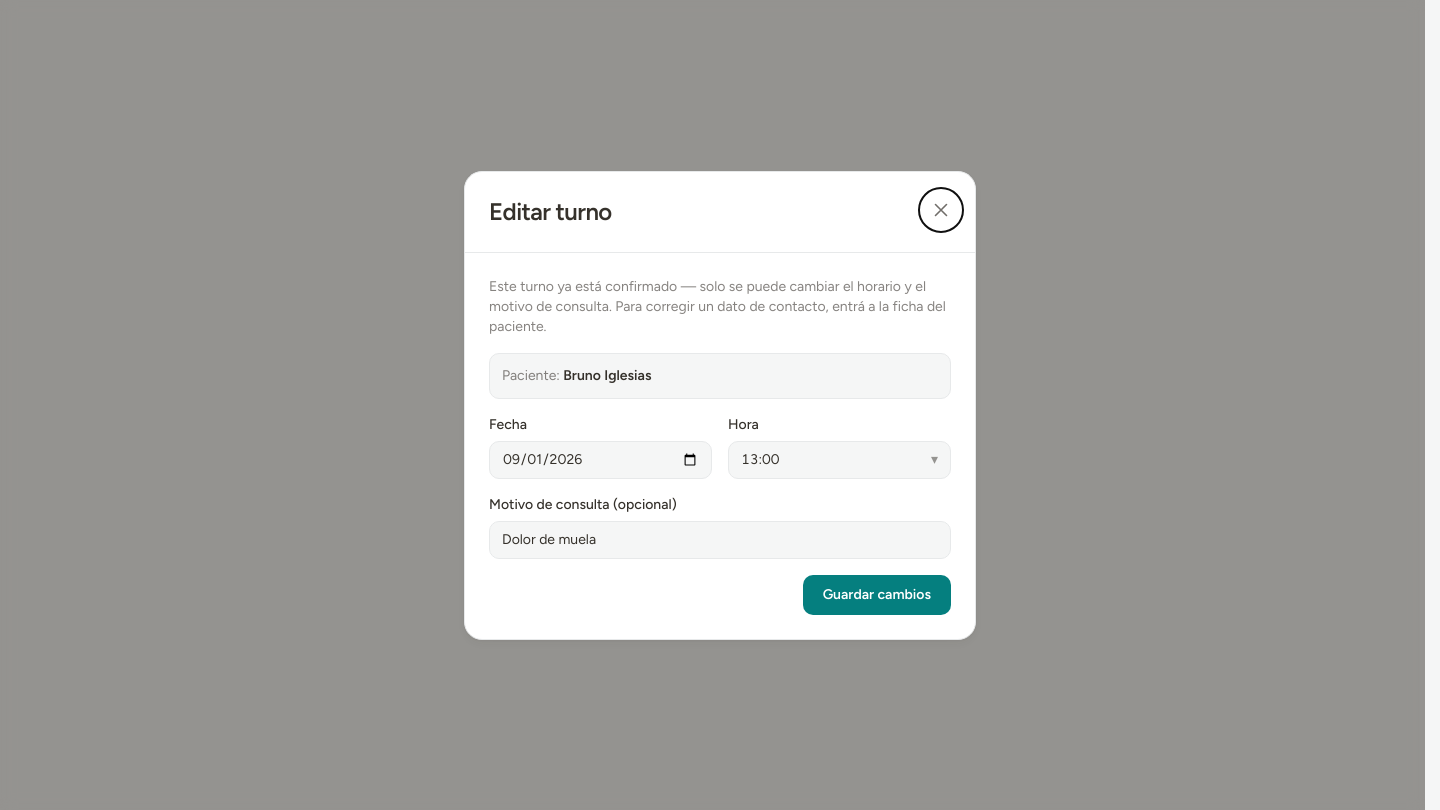
Scenario: EditarTurnoModal — turno agendado (solo edita el horario) › muestra el error de solapamiento (T2.5) que devuelve la acción
Expected: the button named "Hora" does not show "Buscando horarios", [728,440,951,478]
Click the button "Guardar cambios" at (877, 594), box [803,574,951,614]
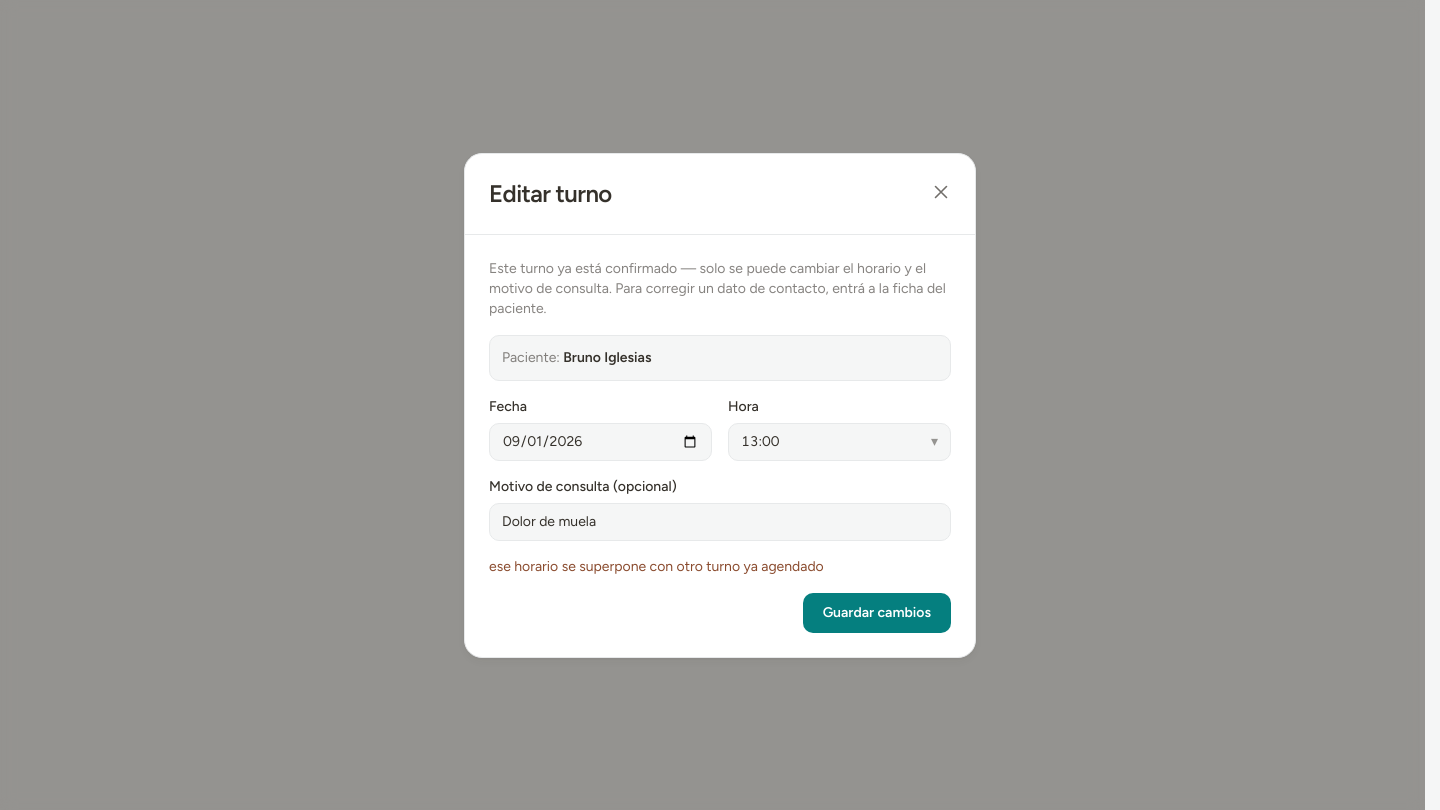
Now the message shows "se superpone", box [489,558,824,574]
